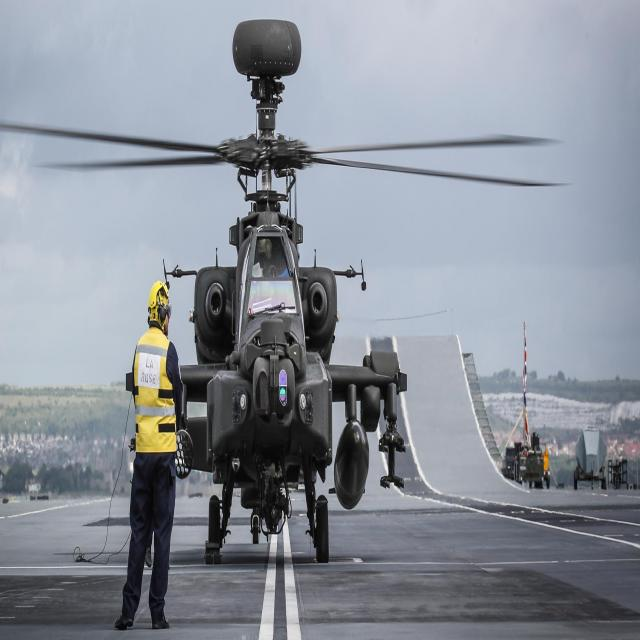MIL_HELO: (0, 18, 572, 563)
